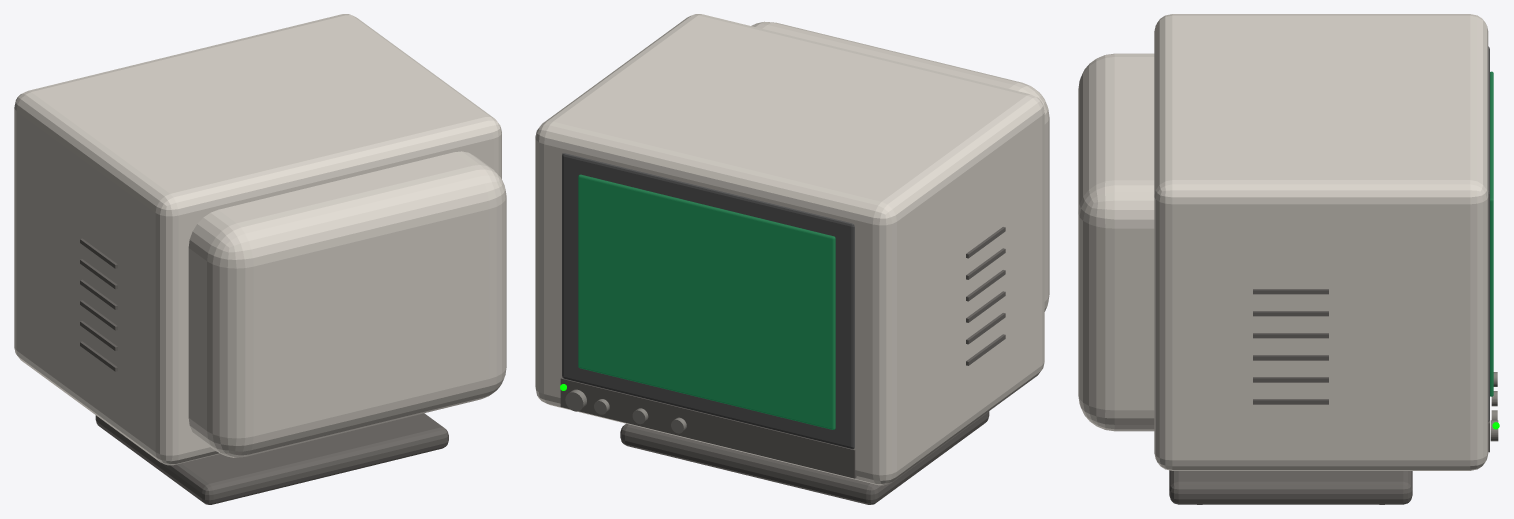
File: monitor.glb
The picture shows the model from 3 angles, left to right: view 1: azimuth 30°, elevation 25°; view 2: azimuth 150°, elevation 25°; view 3: azimuth 270°, elevation 25°; orthographic projection. The views are drawn at different scales.
Visible parts, largest first — view 1: CRT_Screen; view 2: CRT_Screen; view 3: CRT_Screen.
Boxes of the visible parts, bbox=[...] form: CRT_Screen: bbox=[14, 14, 506, 504]; CRT_Screen: bbox=[535, 14, 1049, 504]; CRT_Screen: bbox=[1078, 14, 1499, 504].
Bounding box in the file's own units: 1.42 × 1.27 × 1.39.
